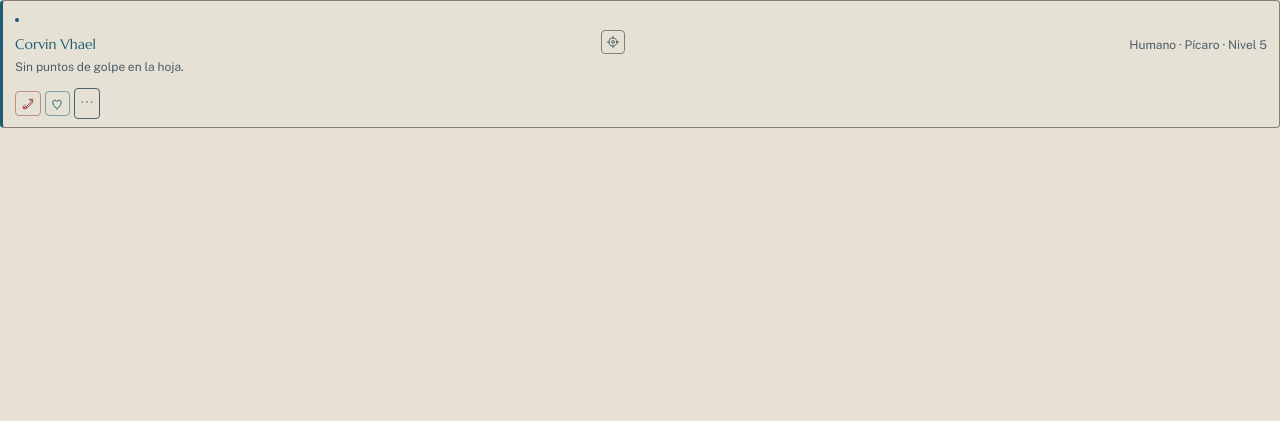
el mando «Dar» aparece con los mandos del DM (B4) › con mandos, el DM ve «Dar…» en el menú
The width and height of the screenshot is (1280, 421).
Click the button named "Más acciones sobre Corvin Vhael". click: (87, 104)
box: [74,88,100,119]
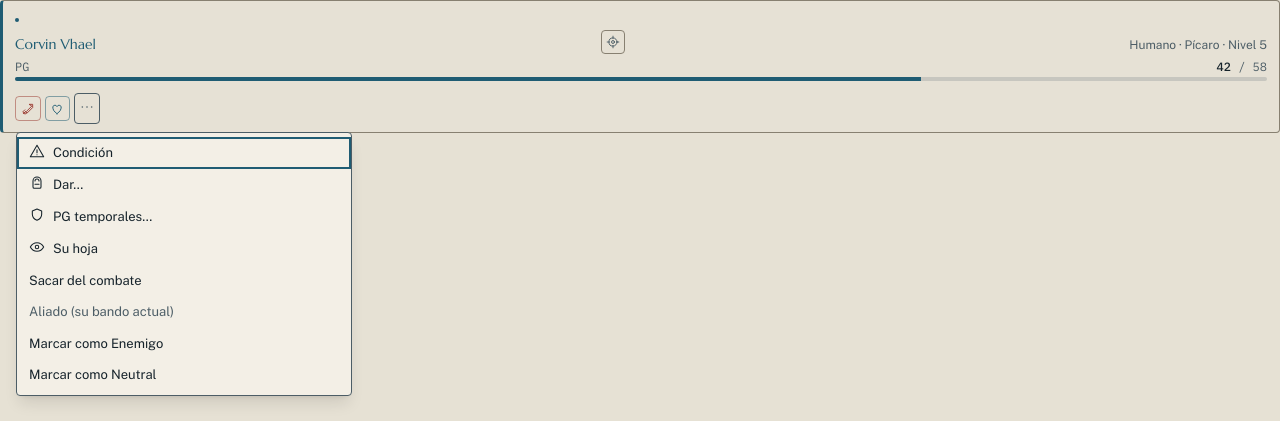
Expected: the menu item "Dar…" is shown, [17,169,351,201]
